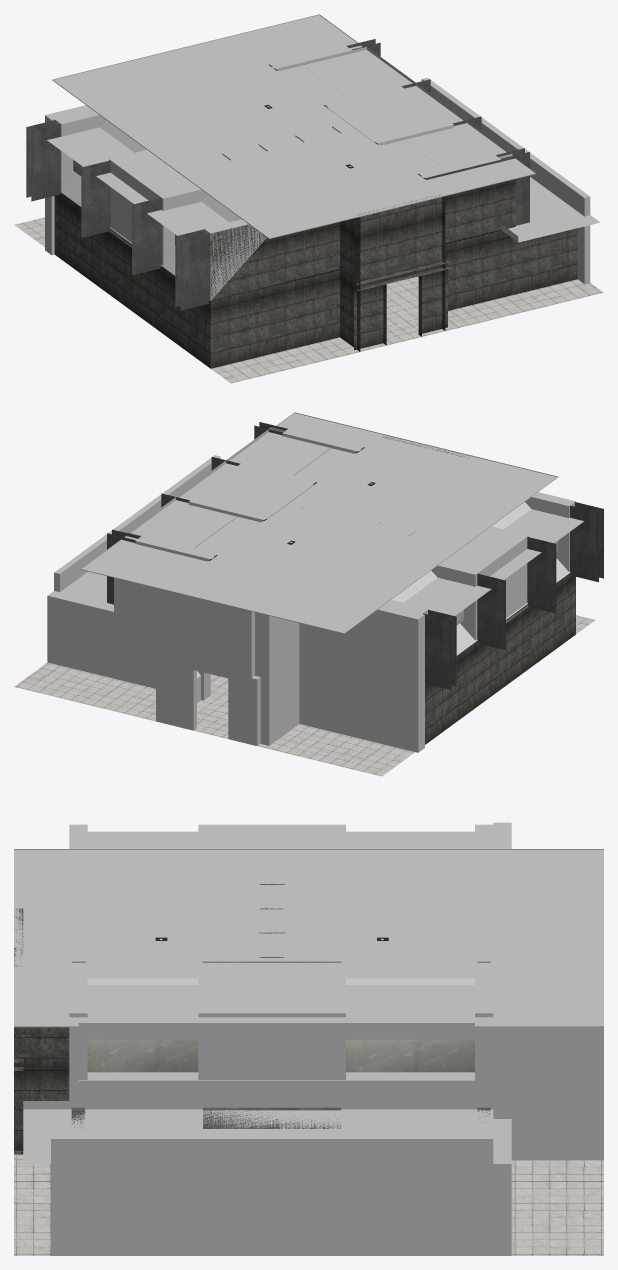
Rendered from CK_LCZ_HCZ.gltf.
3 renders of one model, top to bottom at view 1: azimuth 30°, elevation 25°; view 2: azimuth 150°, elevation 25°; view 3: azimuth 270°, elevation 25°, orthographic. The views are drawn at different scales.
Visible parts, largest first — view 1: CK_LCZ_HCZ.001; view 2: CK_LCZ_HCZ.001; view 3: CK_LCZ_HCZ.001.
Boxes of the visible parts, left/top/right/bottom form: CK_LCZ_HCZ.001: left=14, top=14, right=603, bottom=383; CK_LCZ_HCZ.001: left=14, top=412, right=603, bottom=776; CK_LCZ_HCZ.001: left=14, top=822, right=603, bottom=1255.
Bounding box in the file's own units: 21.92 × 7.2 × 20.48.
